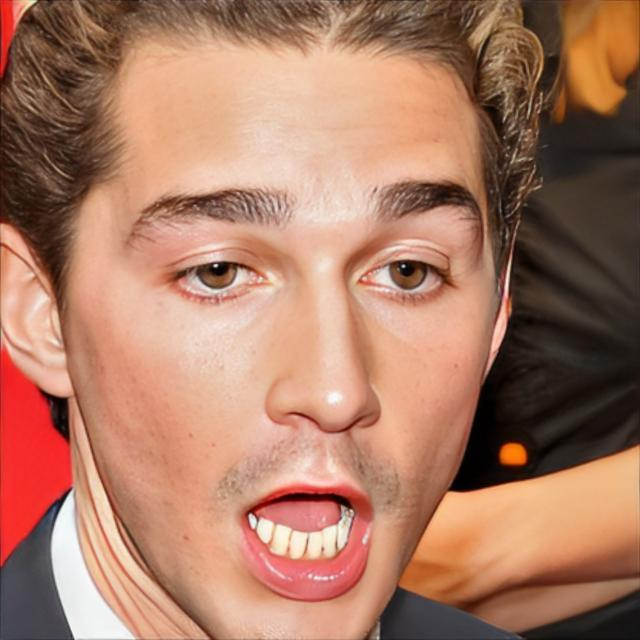surprise: (76, 15, 497, 640)
